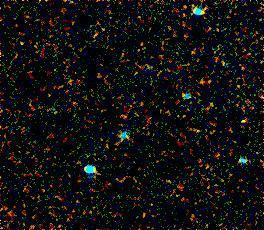star: (231, 107, 261, 137)
